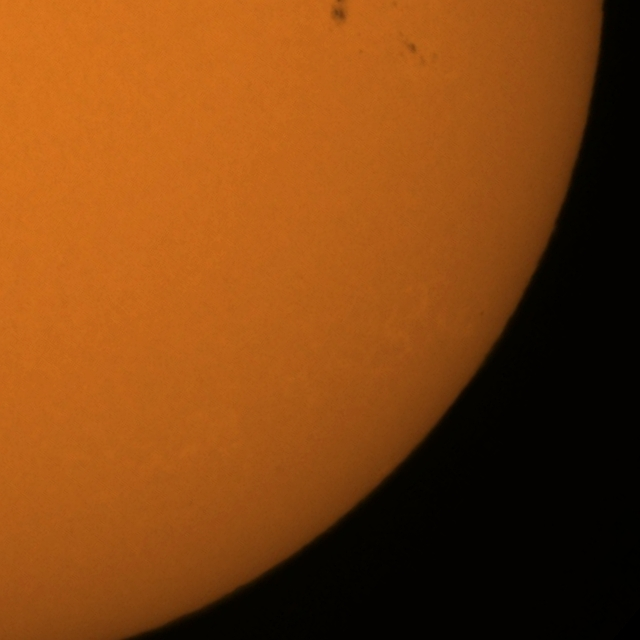sunspot: (398, 32, 427, 70), (328, 1, 349, 28)
